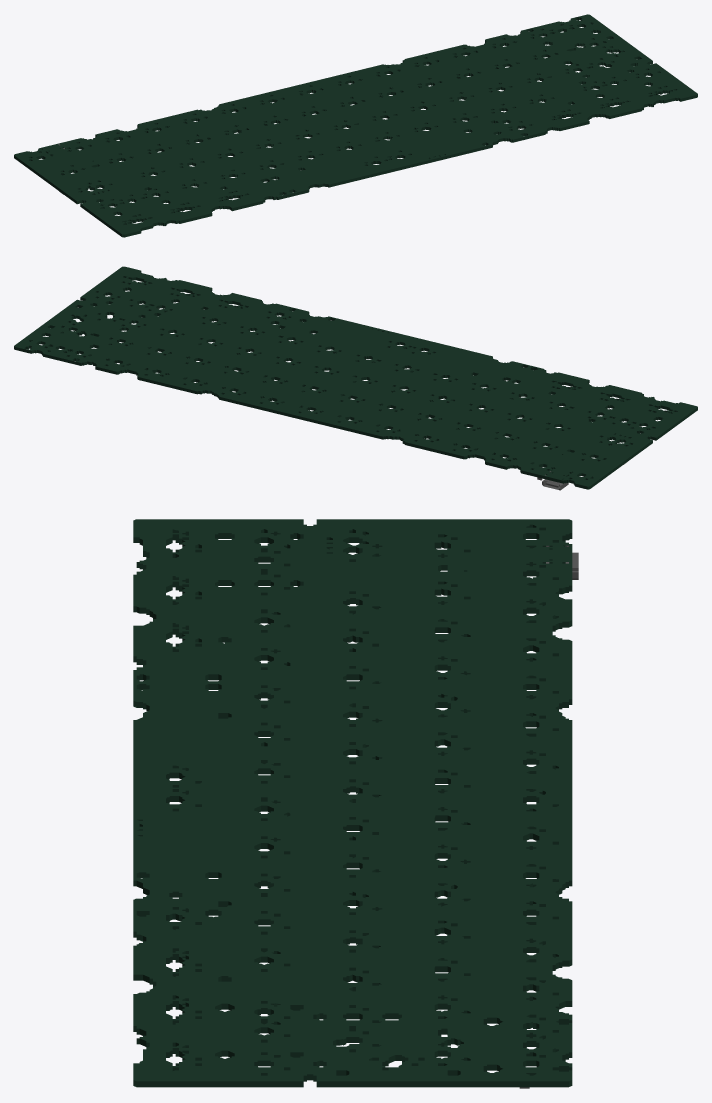
The model's file is zed60.glb.
3 views of the same model, one above another, from view 1: azimuth 30°, elevation 25°; view 2: azimuth 150°, elevation 25°; view 3: azimuth 270°, elevation 25° (orthographic). The views are drawn at different scales.
Visible parts, largest first — view 1: zed60; view 2: zed60; view 3: zed60.
Part boxes in pixels (left/top/right/bottom): zed60: left=14, top=14, right=697, bottom=237; zed60: left=14, top=266, right=697, bottom=490; zed60: left=133, top=519, right=578, bottom=1088.
Size of the model in its own units: 284 by 4.2 by 95.2.
